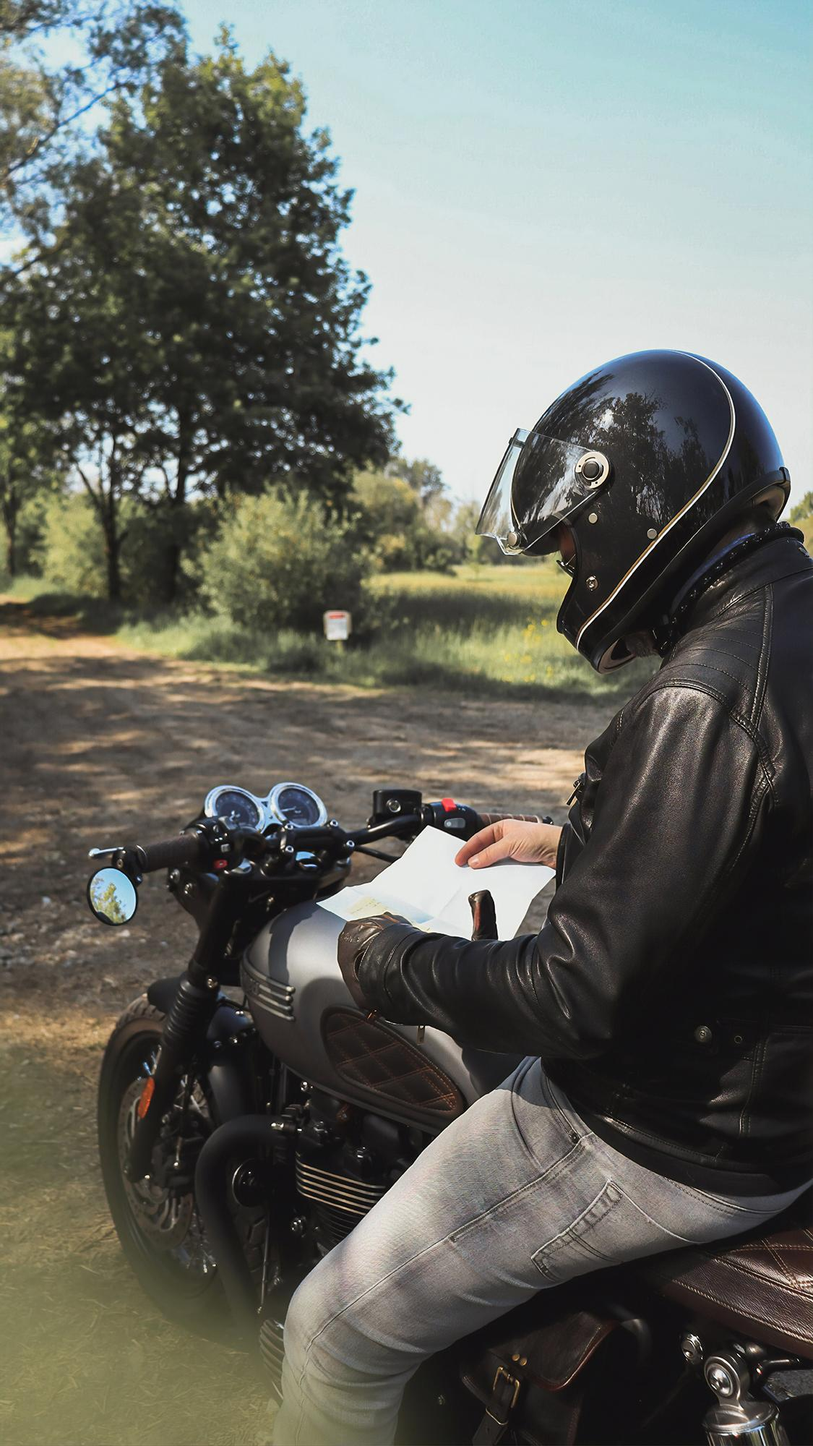helmet: (474, 347, 793, 677)
